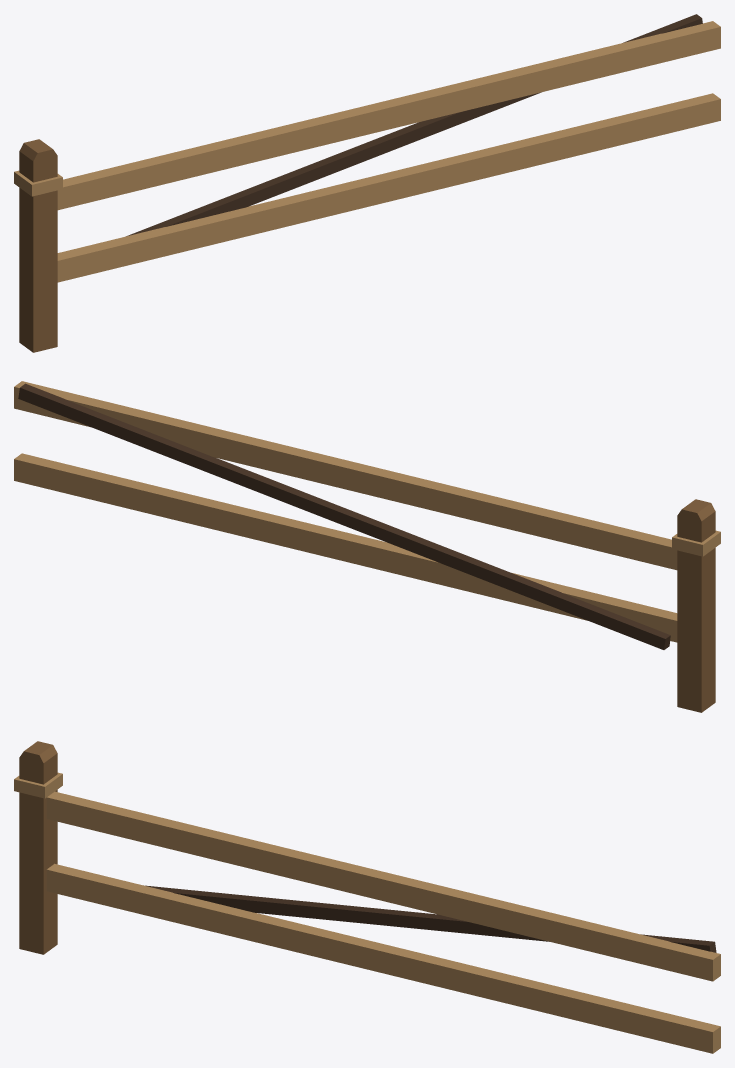
File: TW_WOOD_RAIL_4M_B_LOD0.glb
3 views of the same model, one above another, from view 1: azimuth 30°, elevation 25°; view 2: azimuth 150°, elevation 25°; view 3: azimuth 330°, elevation 25° (orthographic).
Parts seen in each view (by area): view 1: TW_WOOD_RAIL_4M_B_LOD0; view 2: TW_WOOD_RAIL_4M_B_LOD0; view 3: TW_WOOD_RAIL_4M_B_LOD0.
Part boxes in pixels (x1=…): TW_WOOD_RAIL_4M_B_LOD0: x1=14, y1=14, x2=720, y2=352; TW_WOOD_RAIL_4M_B_LOD0: x1=14, y1=381, x2=720, y2=712; TW_WOOD_RAIL_4M_B_LOD0: x1=14, y1=741, x2=720, y2=1053.
Bounding box in the file's own units: 4.02 × 1.1 × 0.1825.
1 material, 1 textured.
